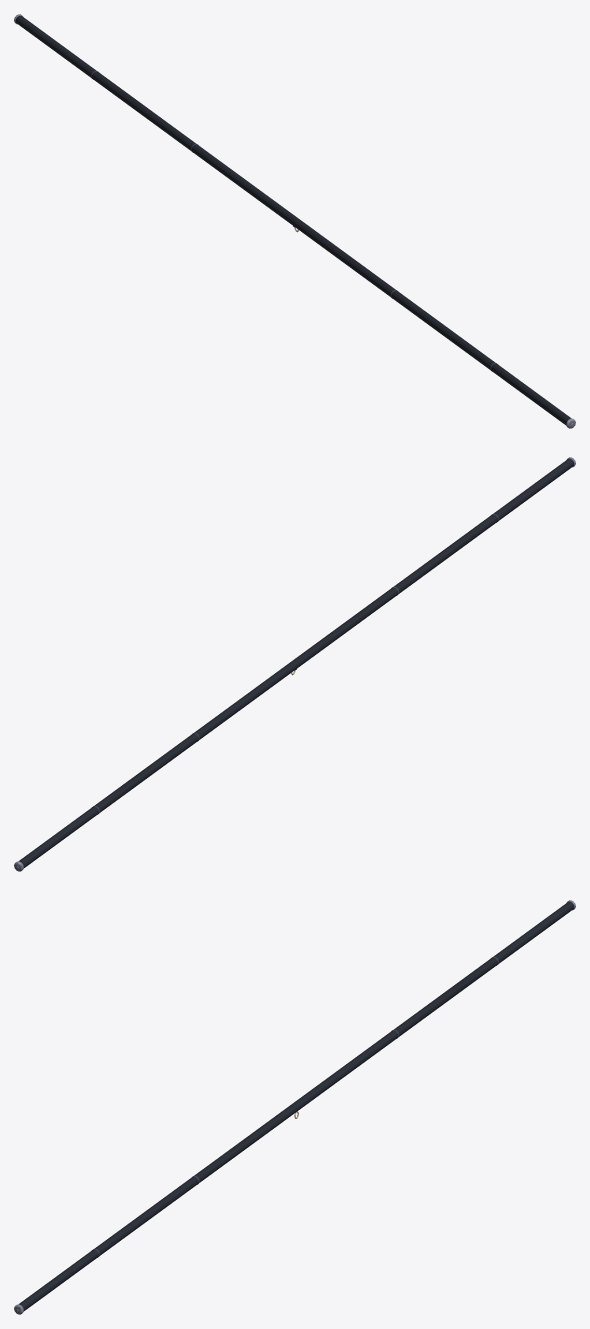
File: SM_Prop_ScreenBottomBar.fbx
3 views of the same model, one above another, from view 1: azimuth 30°, elevation 25°; view 2: azimuth 150°, elevation 25°; view 3: azimuth 330°, elevation 25° (orthographic).
Visible parts, largest first — view 1: SM_Prop_ScreenBottomBar; view 2: SM_Prop_ScreenBottomBar; view 3: SM_Prop_ScreenBottomBar.
Boxes of the visible parts, x1=… form: SM_Prop_ScreenBottomBar: x1=14, y1=14, x2=575, y2=428; SM_Prop_ScreenBottomBar: x1=14, y1=457, x2=575, y2=871; SM_Prop_ScreenBottomBar: x1=14, y1=900, x2=575, y2=1314.
Size of the model in its own units: 16.05 by 26.25 by 1669.
